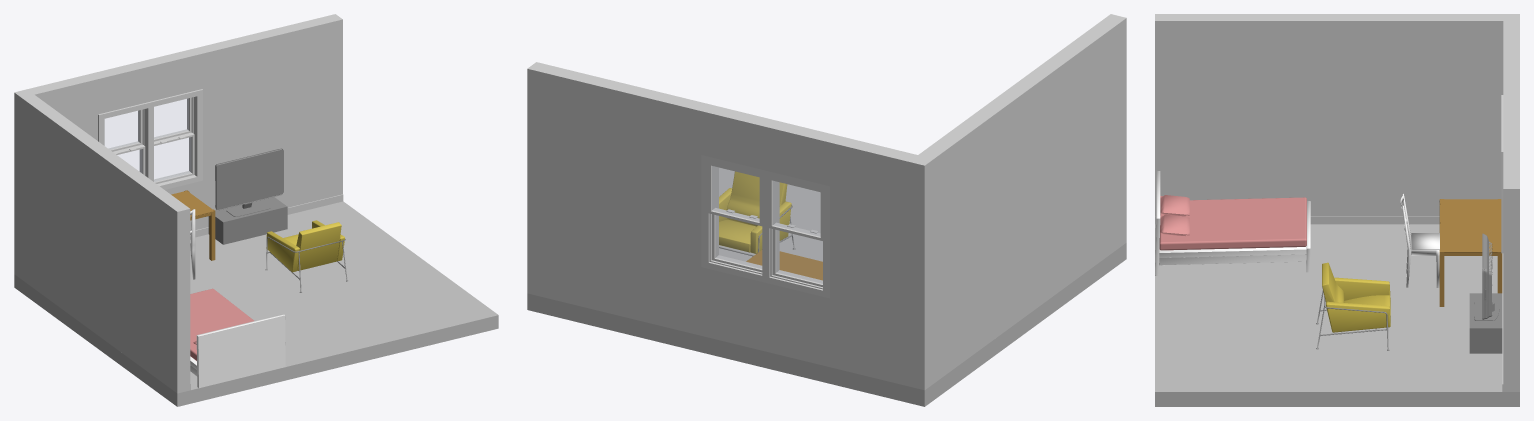
The model's file is L14_W16_furniture3_daylight2.glb.
The picture shows the model from 3 angles, left to right: view 1: azimuth 30°, elevation 25°; view 2: azimuth 150°, elevation 25°; view 3: azimuth 270°, elevation 25°; orthographic projection. The views are drawn at different scales.
Bounding box in the file's own units: 200 × 116 × 176.
